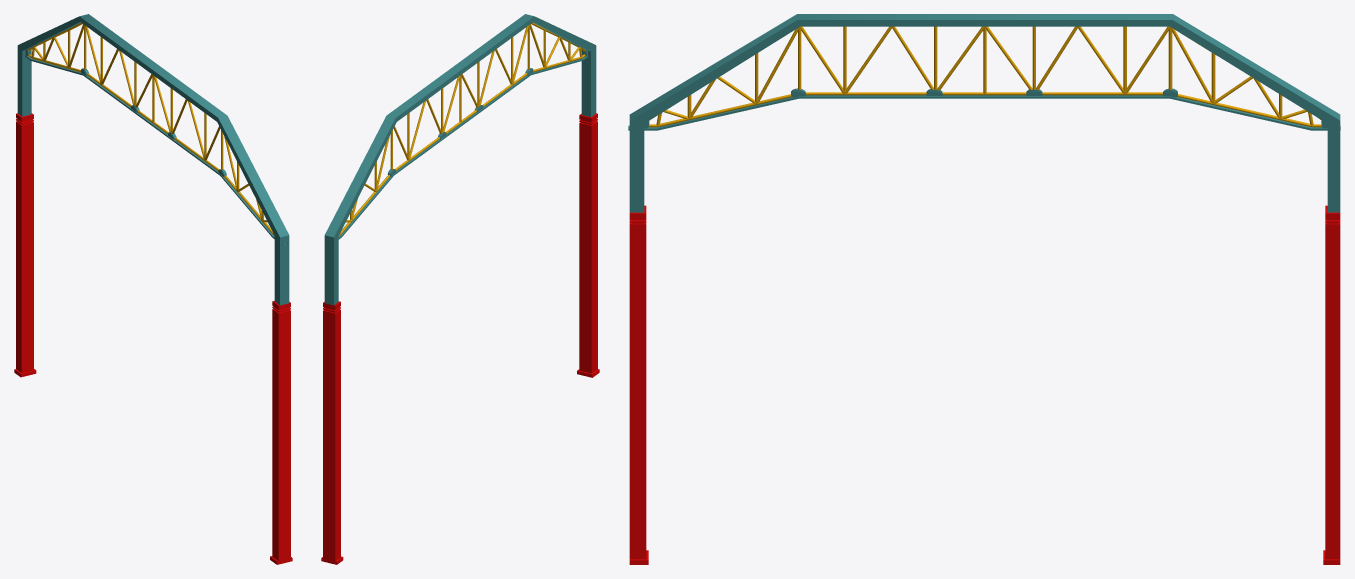
The model's file is CrossStructure15.fbx.
3 views of the same model, side by side, from view 1: azimuth 30°, elevation 25°; view 2: azimuth 150°, elevation 25°; view 3: azimuth 270°, elevation 25° (orthographic). The views are drawn at different scales.
Parts seen in each view (by area): view 1: CrossStructure15; view 2: CrossStructure15; view 3: CrossStructure15.
Part boxes in pixels (<box>): CrossStructure15: <box>14,14,292,564</box>; CrossStructure15: <box>321,14,599,564</box>; CrossStructure15: <box>628,14,1340,564</box>.
Size of the model in its own units: 27.35 by 677 by 805.
